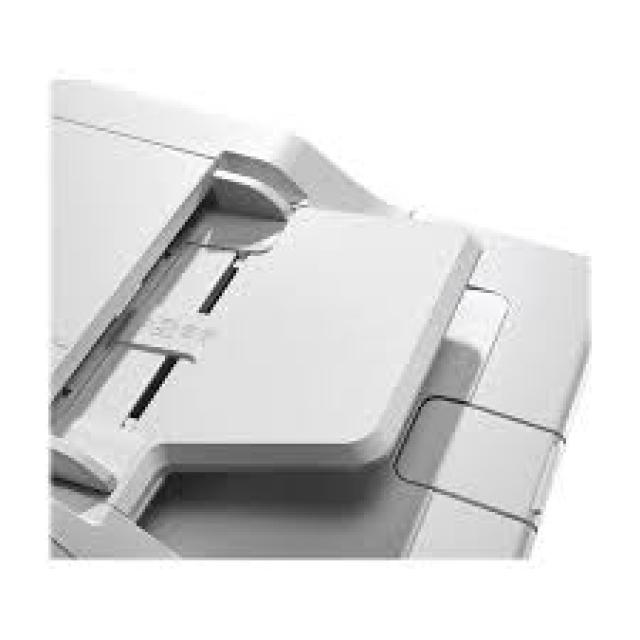printer: (46, 71, 592, 560)
